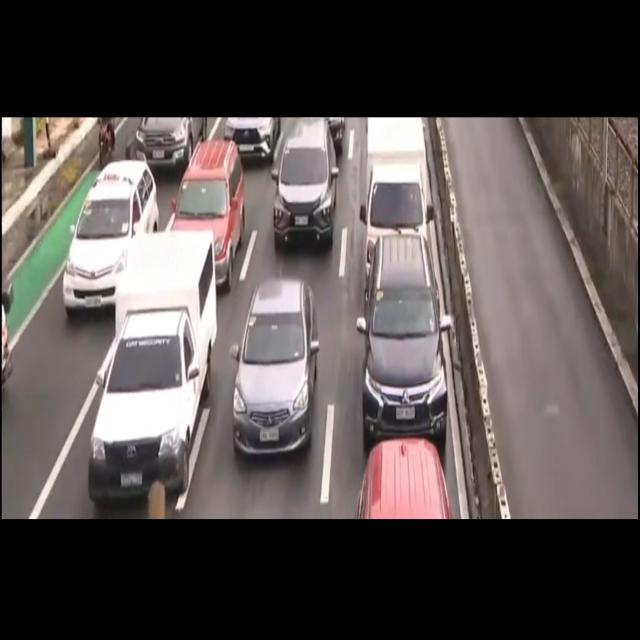Pick-up: (90, 228, 215, 496), (358, 118, 434, 283)
SUV: (355, 233, 445, 443), (170, 141, 242, 283), (269, 124, 334, 255), (349, 443, 450, 518)
Sedan: (234, 280, 318, 456), (63, 162, 154, 316)
